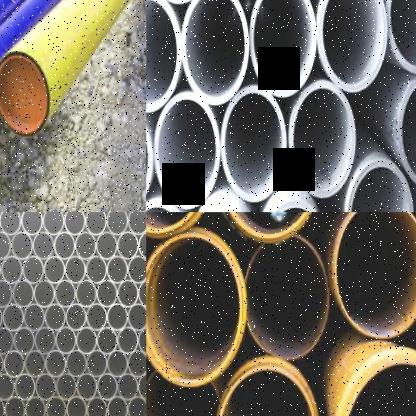pipe: (146, 233, 246, 385), (245, 235, 330, 360), (334, 212, 416, 337), (290, 80, 356, 199), (154, 93, 221, 209), (221, 85, 287, 202), (181, 0, 249, 105), (316, 0, 387, 93), (249, 0, 316, 97), (216, 366, 318, 416), (341, 359, 416, 416), (0, 50, 49, 135), (146, 0, 181, 112), (347, 159, 414, 212), (146, 370, 221, 416), (386, 0, 416, 75), (397, 73, 416, 191), (262, 199, 328, 212), (10, 231, 33, 260), (116, 231, 139, 260), (2, 303, 25, 331), (54, 231, 76, 260), (32, 231, 54, 260), (35, 372, 57, 401), (146, 198, 191, 212), (1, 256, 23, 284), (12, 280, 34, 308), (96, 280, 118, 308), (22, 256, 44, 284), (96, 372, 118, 400), (96, 326, 118, 354), (65, 302, 87, 330), (86, 302, 108, 330), (55, 326, 77, 354), (44, 302, 66, 330), (24, 350, 46, 378), (86, 349, 108, 377), (65, 350, 87, 378), (23, 303, 45, 331), (75, 231, 96, 260), (44, 255, 65, 284), (96, 231, 117, 260), (65, 255, 86, 284), (86, 255, 107, 284), (107, 255, 128, 284), (76, 372, 97, 401), (34, 280, 55, 308), (76, 280, 97, 308), (55, 280, 76, 308), (107, 302, 128, 330), (117, 280, 138, 308), (107, 350, 128, 378), (56, 372, 77, 400), (4, 350, 25, 378), (117, 372, 138, 400), (45, 350, 66, 378), (35, 326, 56, 354), (117, 326, 138, 354), (76, 326, 97, 354), (127, 254, 146, 284), (14, 327, 34, 355), (15, 372, 35, 400), (127, 301, 146, 330), (127, 349, 146, 377), (85, 212, 107, 236), (106, 212, 128, 236), (42, 212, 64, 236), (0, 212, 22, 235), (63, 212, 85, 235), (21, 212, 42, 235), (107, 395, 128, 416), (45, 395, 66, 416), (4, 395, 25, 416), (127, 212, 146, 235), (66, 395, 86, 416), (87, 395, 107, 416), (0, 372, 15, 400), (25, 395, 45, 416), (127, 395, 146, 416), (0, 326, 13, 354), (0, 279, 12, 308), (0, 230, 11, 259), (137, 372, 146, 400), (138, 230, 146, 260), (138, 326, 146, 354), (138, 279, 146, 307), (0, 350, 4, 378), (0, 395, 4, 416), (0, 302, 2, 330)
